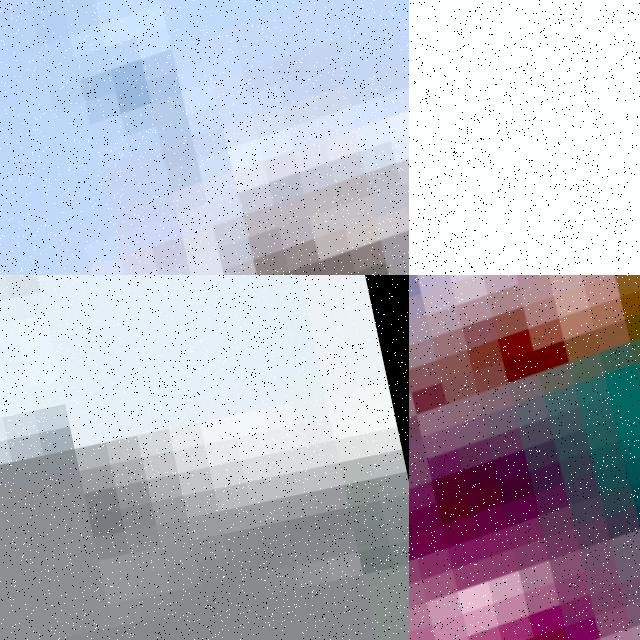0: (409, 275, 640, 640), (409, 0, 640, 275)
drone: (0, 0, 409, 275)
